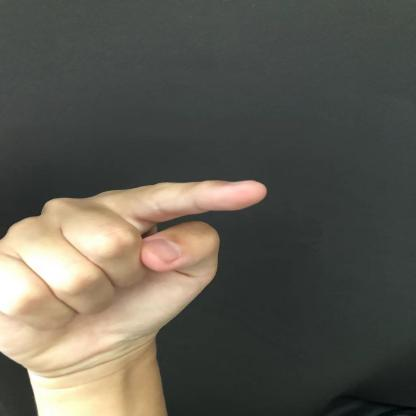finger_point: (113, 142, 286, 224)
